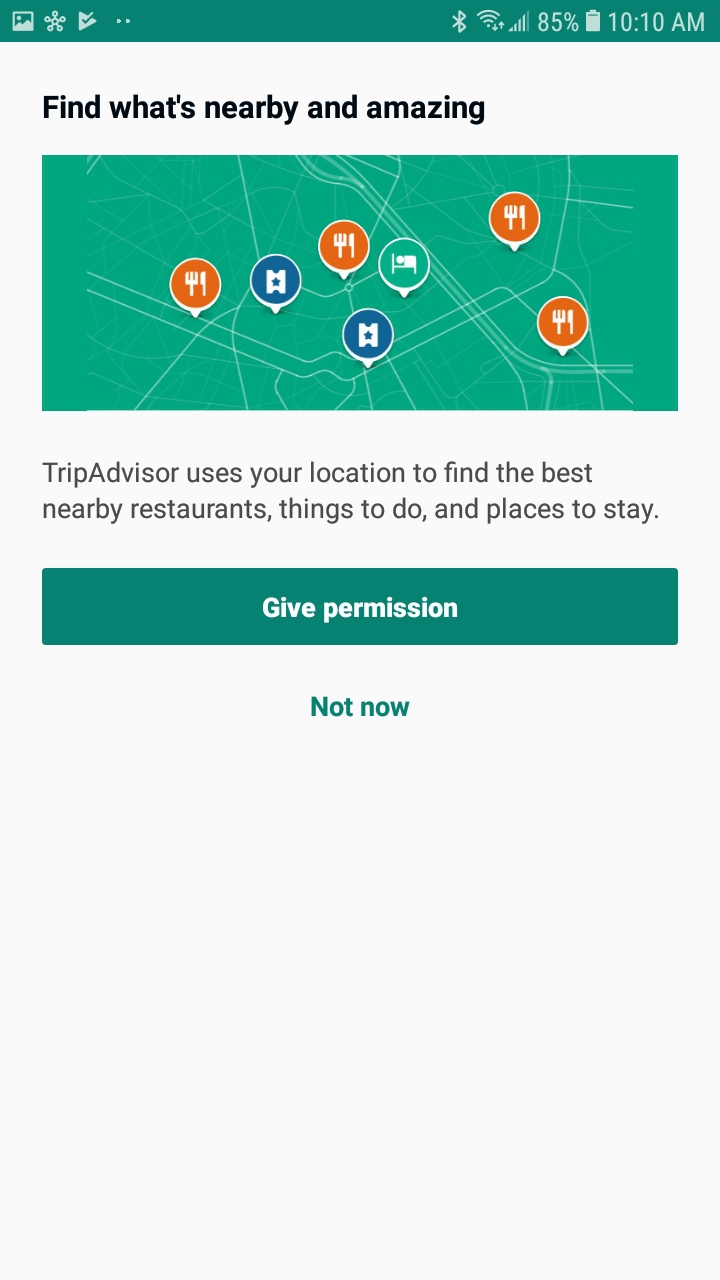Image: (43, 155, 679, 412)
Text: (42, 460, 659, 525), (44, 94, 485, 127), (311, 696, 411, 718)
TextButton: (43, 568, 679, 646)
UpperTaskBar: (1, 1, 720, 43)
